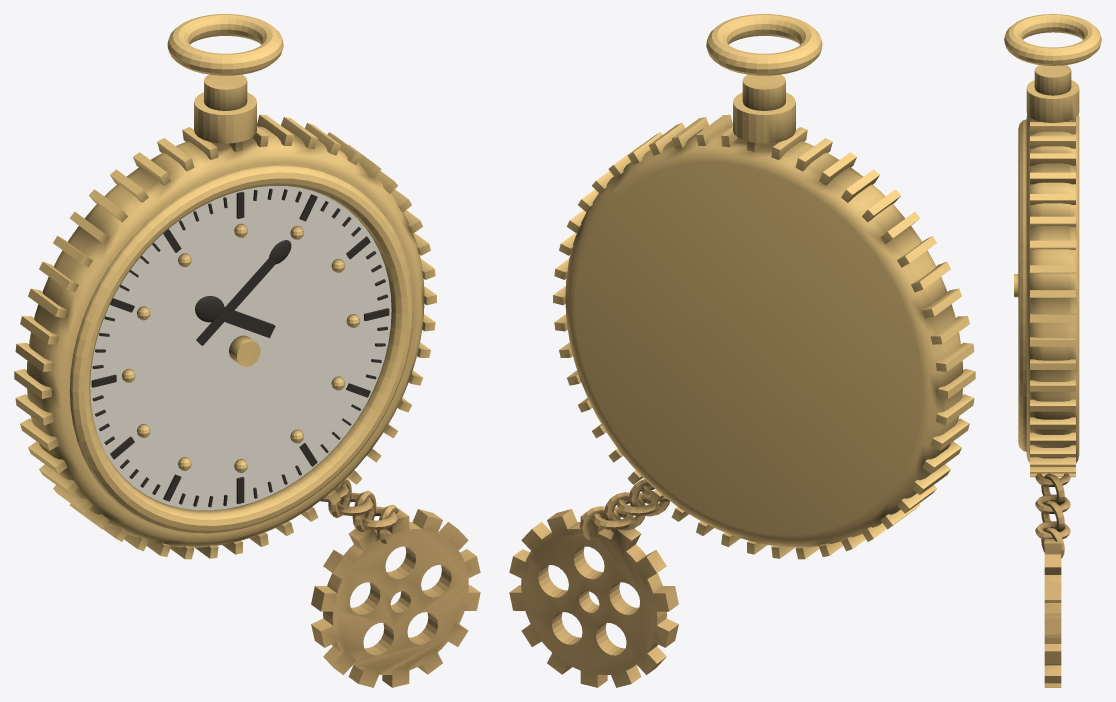
File: emb_relogio.glb
3 renders of one model, left to right at view 1: azimuth 30°, elevation 25°; view 2: azimuth 150°, elevation 25°; view 3: azimuth 270°, elevation 25°, orthographic. The views are drawn at different scales.
Visible parts, largest first — view 1: emb_relogio; view 2: emb_relogio; view 3: emb_relogio.
Part boxes in pixels (x1,y1,x2,y2): emb_relogio: [14, 14, 480, 687]; emb_relogio: [509, 14, 975, 687]; emb_relogio: [1004, 14, 1101, 687].
Size of the model in its own units: 0.1315 by 0.1933 by 0.0296.
